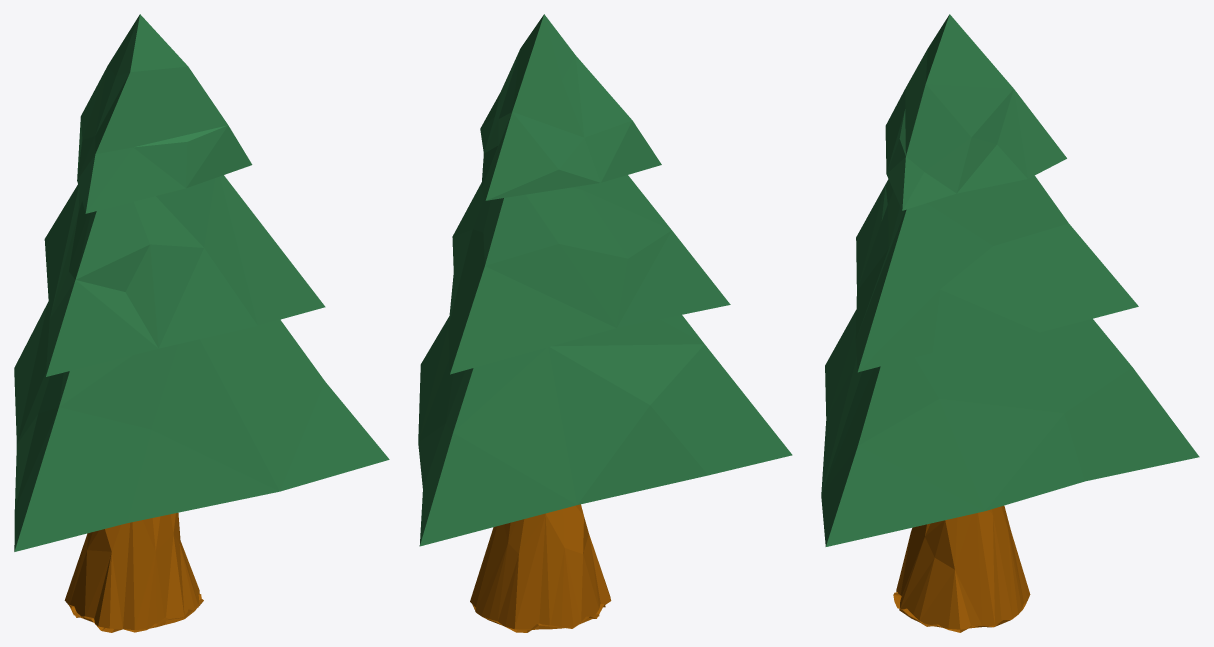
The model's file is Tree1.fbx.
3 views of the same model, side by side, from view 1: azimuth 30°, elevation 25°; view 2: azimuth 150°, elevation 25°; view 3: azimuth 270°, elevation 25° (orthographic).
Visible parts, largest first — view 1: Platonic, Platonic_1, Platonic_2, Cone; view 2: Platonic, Platonic_1, Platonic_2, Cone; view 3: Platonic, Platonic_1, Platonic_2, Cone.
Part boxes in pixels (x1,y1,x2,y2): Platonic: (14,301,389,551); Platonic_1: (44,175,325,376); Platonic_2: (77,14,252,213); Cone: (64,513,203,632); Platonic: (418,315,792,546); Platonic_1: (448,175,730,374); Platonic_2: (480,14,661,200); Cone: (470,504,611,632); Platonic: (821,310,1199,546); Platonic_1: (855,175,1138,372); Platonic_2: (885,14,1066,210); Cone: (893,505,1030,632).
Bounding box in the file's own units: 327 × 495 × 287.
